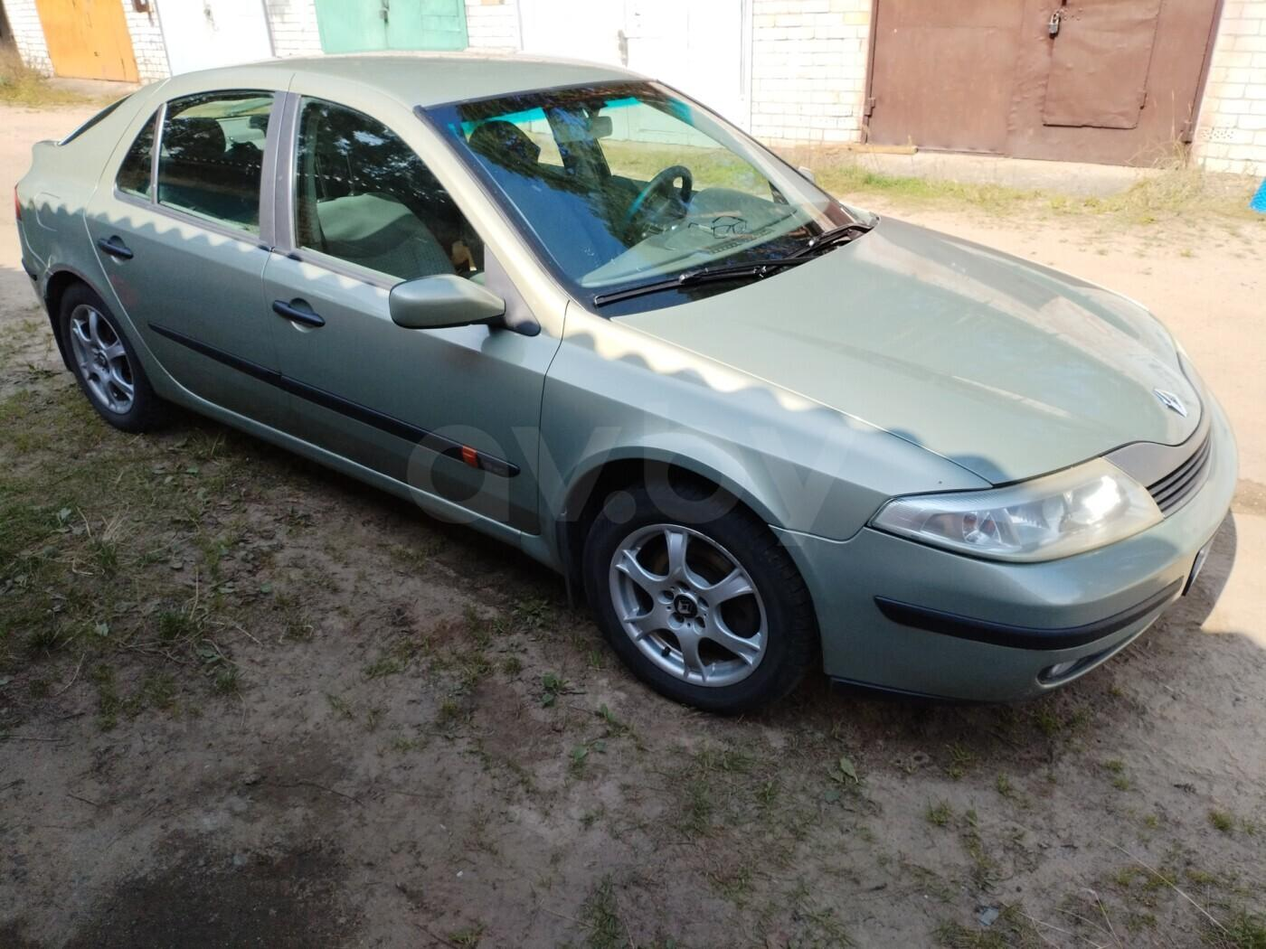Laguna_2001-2005: (14, 53, 1236, 712)
